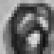correct: (6, 1, 54, 54)
